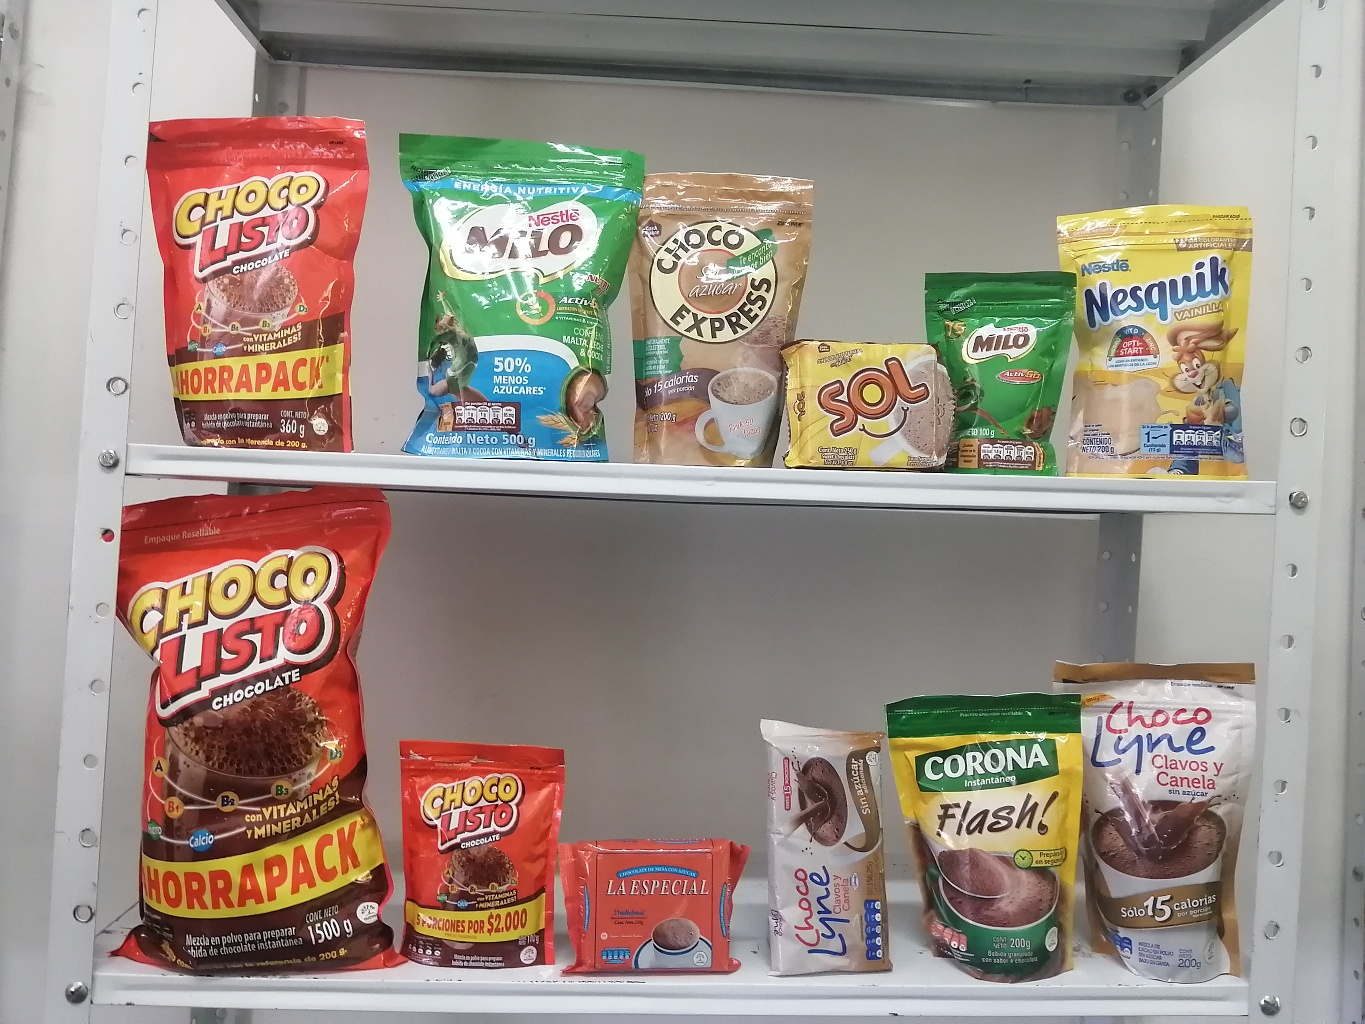COL0170103DYP1,500: (87, 469, 429, 994)
COL0170103DYP36000: (122, 101, 410, 473)
COL0170203DYP10000: (902, 250, 1073, 478)
COL0170205DYP50000: (380, 113, 641, 473)
COL0170306DYP20000: (1036, 189, 1278, 478)
